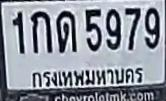1: (12, 11, 24, 54)
5: (85, 8, 101, 50)
7: (124, 7, 140, 49)
9: (105, 8, 120, 49), (144, 7, 159, 48)
A01: (30, 10, 51, 53)
A20: (56, 10, 76, 52)
BKK: (29, 64, 145, 89)
